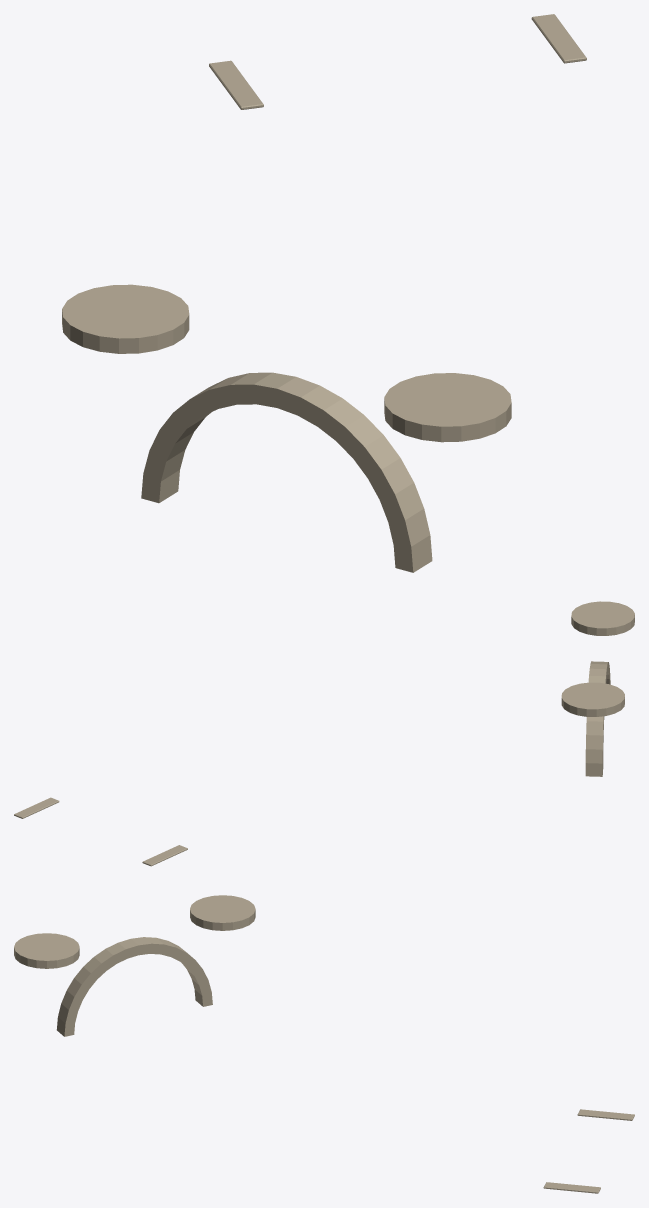
File: Sector5_SandstoneTrim_1.fbx
3 views of the same model, one above another, from view 1: azimuth 30°, elevation 25°; view 2: azimuth 150°, elevation 25°; view 3: azimuth 270°, elevation 25° (orthographic). The views are drawn at different scales.
Parts seen in each view (by area): view 1: Sector5_SandstoneTrim_1; view 2: Sector5_SandstoneTrim_1; view 3: Sector5_SandstoneTrim_1.
Boxes of the visible parts, x1,y1,x2,y2 form: Sector5_SandstoneTrim_1: (62,14,586,572); Sector5_SandstoneTrim_1: (14,601,634,866); Sector5_SandstoneTrim_1: (14,895,634,1193).
Size of the model in its own units: 22991 by 4500 by 28300.
